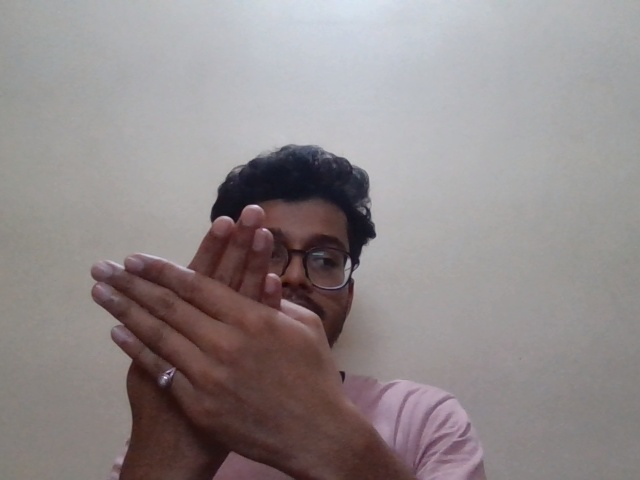what: (84, 198, 355, 439)
